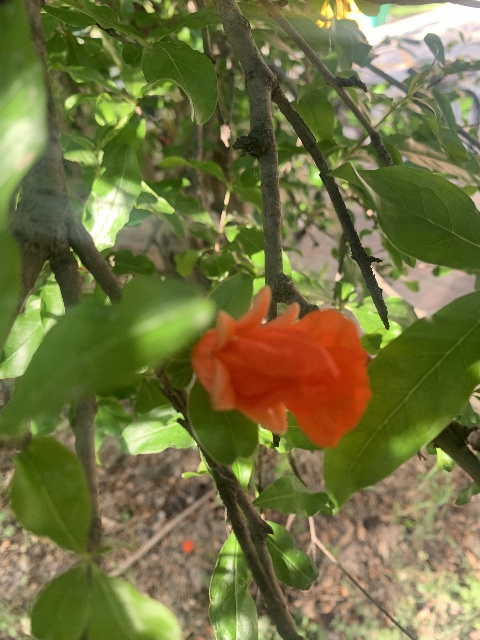flower: (190, 285, 372, 449)
